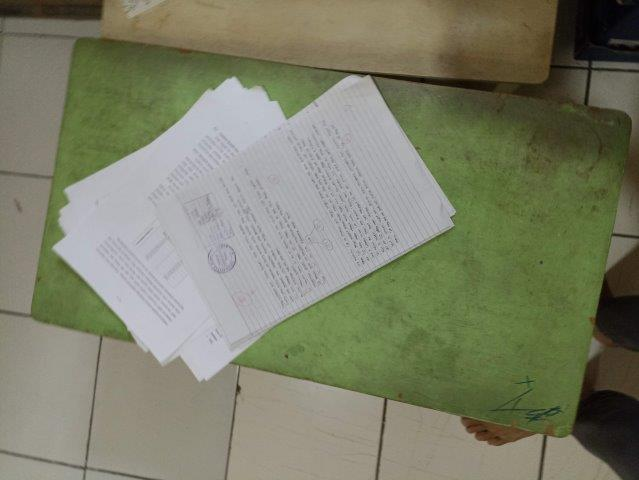kertas: (56, 75, 456, 381)
